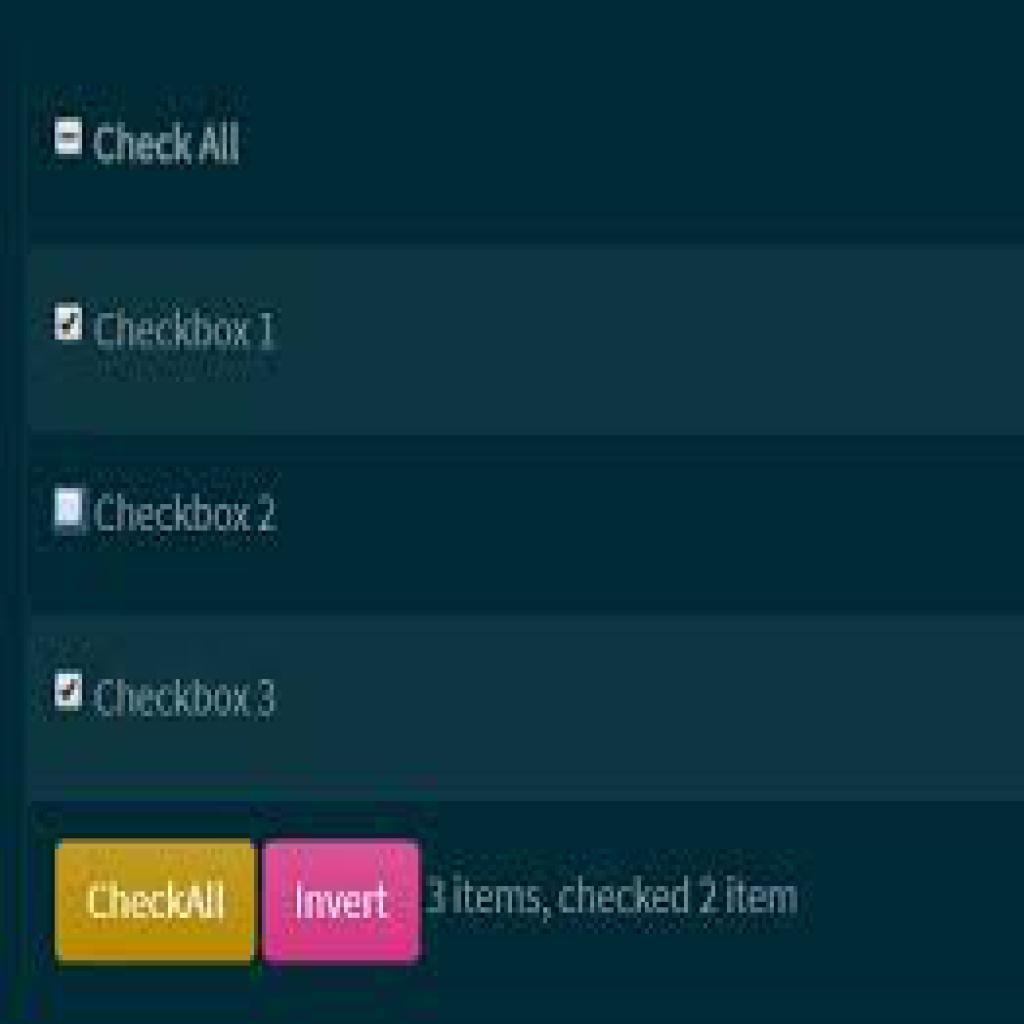button: (57, 839, 259, 965), (267, 845, 420, 963)
checkbox: (52, 303, 88, 341), (54, 488, 84, 530), (57, 668, 84, 709)
